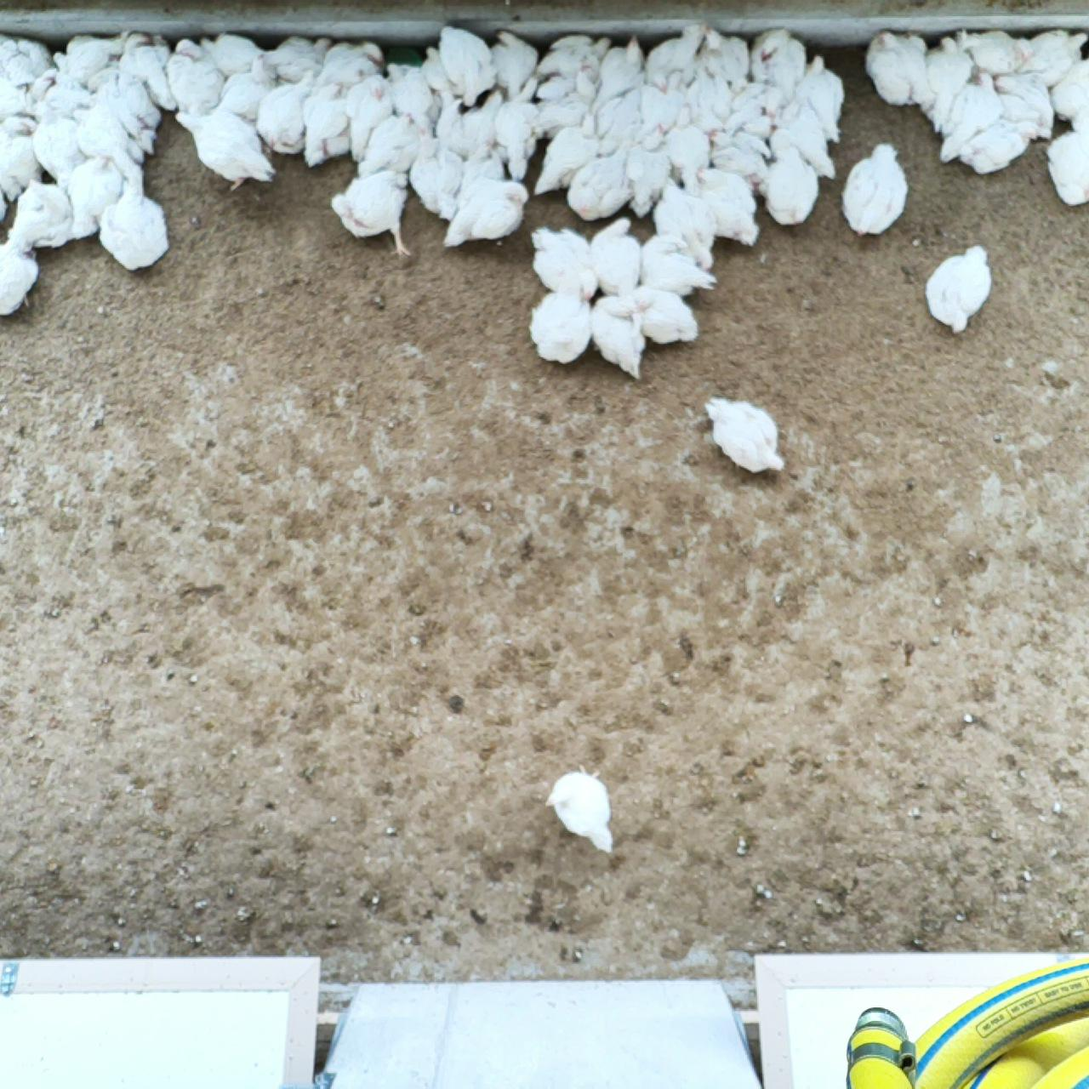chicken: (174, 111, 277, 188), (331, 171, 408, 259), (100, 172, 168, 271), (543, 762, 614, 855), (925, 244, 991, 334), (704, 398, 784, 472), (843, 145, 908, 234), (444, 181, 529, 249), (943, 67, 1000, 164), (868, 26, 934, 108), (567, 136, 634, 216), (695, 166, 761, 247), (97, 68, 166, 145), (535, 117, 598, 201), (654, 181, 715, 265), (73, 104, 136, 181), (7, 179, 74, 251), (593, 295, 647, 381), (925, 32, 971, 132), (531, 228, 595, 299), (532, 293, 592, 366), (641, 236, 715, 295), (779, 105, 837, 180), (31, 102, 84, 184), (358, 110, 418, 181), (166, 40, 226, 111), (71, 153, 115, 247), (630, 287, 699, 345), (591, 219, 641, 299), (768, 148, 819, 226), (127, 32, 178, 110), (261, 82, 314, 157), (966, 123, 1039, 177), (531, 23, 608, 74), (348, 77, 394, 162), (630, 124, 672, 217), (799, 55, 844, 140), (501, 72, 537, 177), (439, 24, 490, 97), (667, 102, 713, 182), (594, 36, 643, 111), (994, 71, 1056, 130), (1023, 28, 1087, 85), (955, 25, 1028, 74), (687, 63, 735, 137), (646, 24, 706, 82), (750, 25, 807, 86), (306, 83, 347, 166), (709, 127, 772, 179), (487, 29, 539, 92), (215, 61, 275, 114), (538, 66, 600, 117), (53, 28, 126, 71), (1048, 131, 1089, 206), (315, 40, 386, 82), (0, 119, 40, 193), (262, 37, 332, 79), (695, 29, 751, 81), (460, 88, 505, 152), (0, 36, 48, 94), (0, 244, 37, 317), (641, 72, 686, 131), (200, 33, 266, 73), (459, 140, 505, 196), (730, 81, 778, 134), (1050, 61, 1089, 125), (383, 61, 433, 110), (423, 44, 445, 90)
